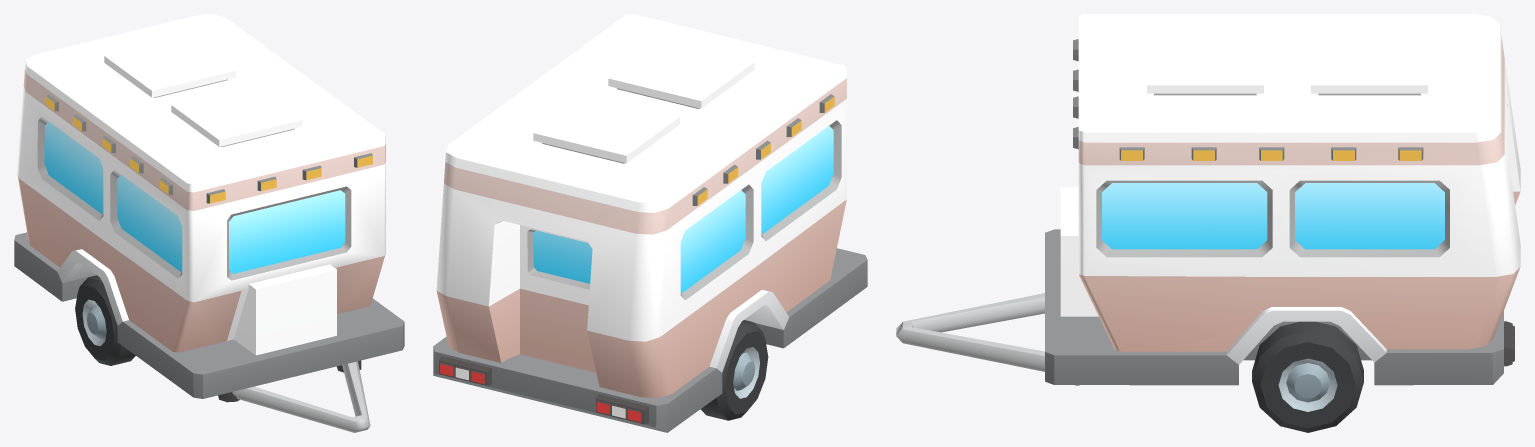
The model's file is Camp_Trailer_02.glb.
3 views of the same model, side by side, from view 1: azimuth 30°, elevation 25°; view 2: azimuth 150°, elevation 25°; view 3: azimuth 270°, elevation 25° (orthographic). The views are drawn at different scales.
Parts seen in each view (by area): view 1: Camp_Trailer_02, Wheel_187; view 2: Camp_Trailer_02, Wheel_187; view 3: Camp_Trailer_02, Wheel_188.
Part boxes in pixels (x1,y1,x2,y2): Camp_Trailer_02: (14, 14, 404, 432); Wheel_187: (75, 275, 135, 365); Camp_Trailer_02: (433, 14, 867, 432); Wheel_187: (700, 320, 768, 420); Camp_Trailer_02: (896, 14, 1520, 385); Wheel_188: (1252, 321, 1363, 432).
Size of the model in its own units: 2.13 by 2.48 by 4.46.
Materials: 2 (2 with a texture image).
